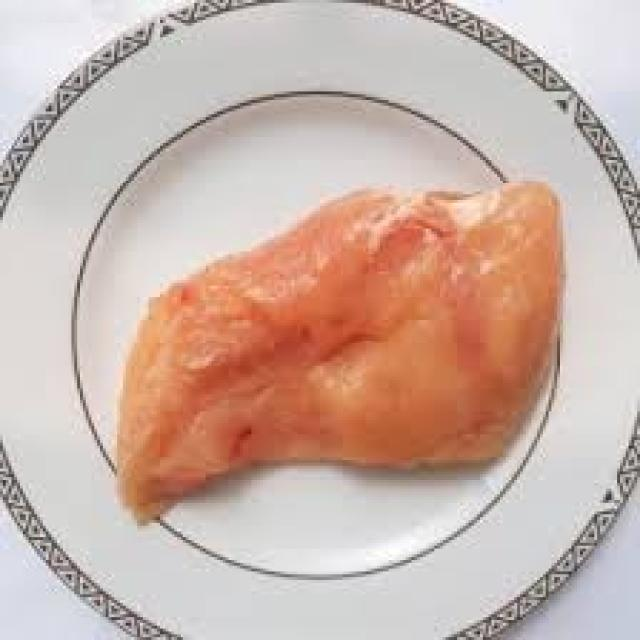chicken: (112, 178, 572, 549)
